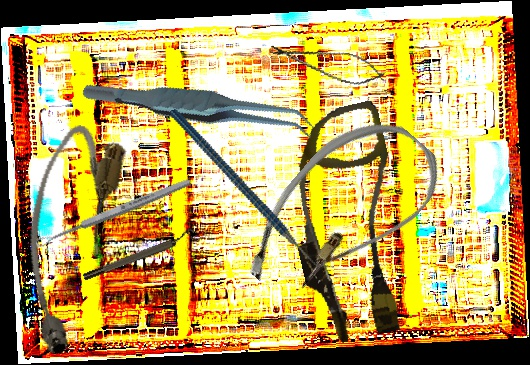Cannula: (228, 95, 455, 331), (269, 99, 427, 348), (1, 119, 130, 362)
Chopper: (169, 75, 335, 304)
Fixation Ring: (80, 226, 198, 283)
Micro Scissor: (267, 36, 388, 91)
Surgical Spoon: (34, 176, 193, 249)
Tissue Forceps: (80, 36, 319, 179)
